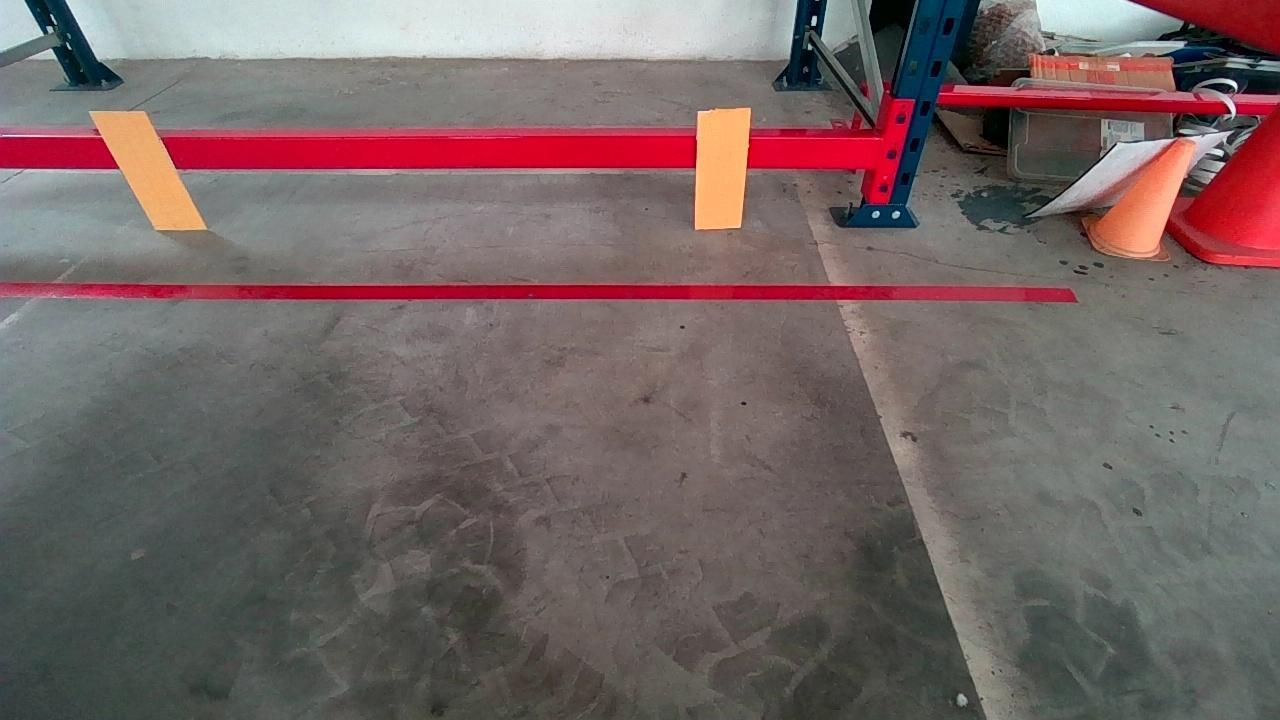h_rack: (0, 136, 881, 167)
orange_strip: (91, 112, 206, 228), (695, 110, 749, 228)
red_line: (0, 282, 1082, 299)
